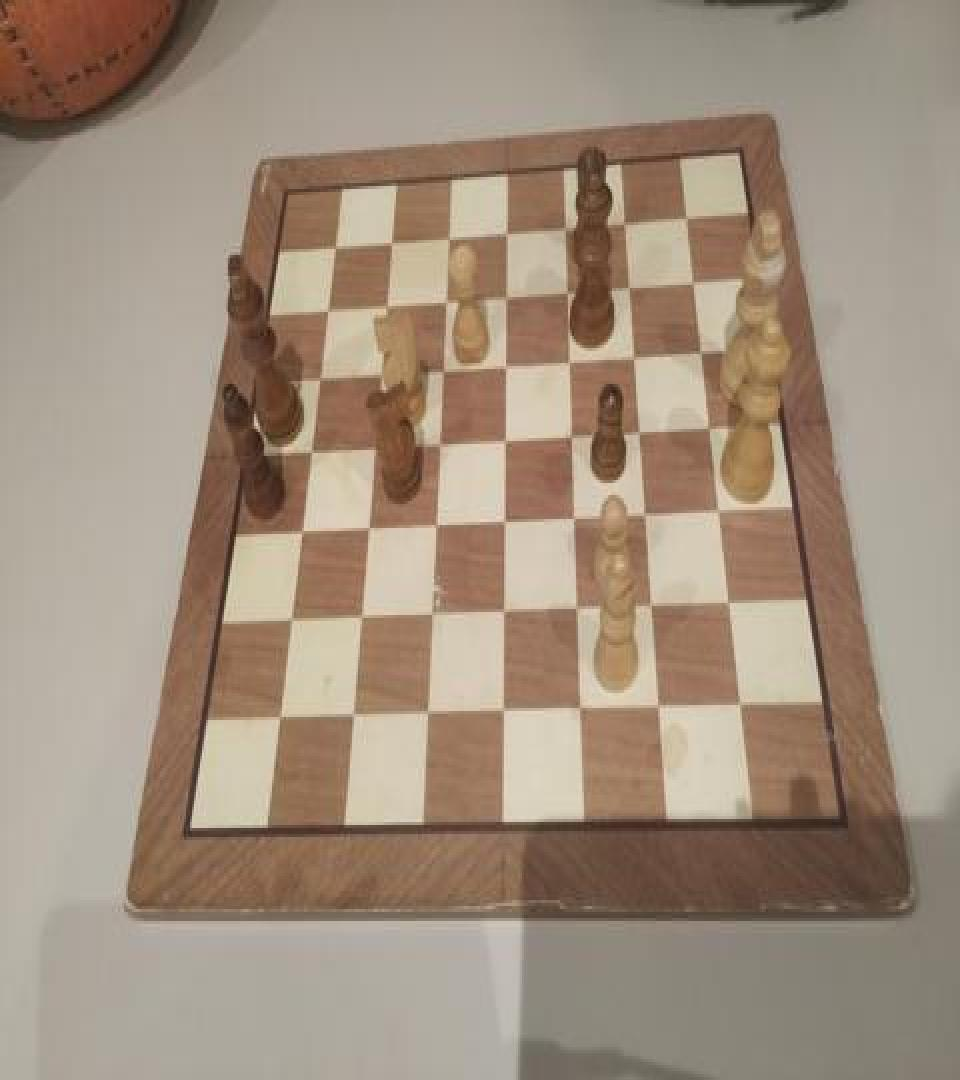xcorner: (317, 295, 337, 326), (437, 223, 457, 254), (268, 705, 288, 735), (417, 702, 437, 732), (493, 700, 513, 730), (651, 696, 671, 726), (732, 694, 752, 724), (350, 604, 370, 634), (494, 598, 514, 628), (568, 597, 588, 627), (643, 594, 663, 624), (720, 591, 740, 621), (290, 519, 310, 549), (357, 514, 377, 544), (425, 512, 445, 542), (494, 508, 514, 538), (564, 506, 584, 536), (636, 501, 656, 531), (709, 498, 729, 528), (300, 438, 320, 468), (364, 434, 384, 464), (428, 430, 448, 460), (494, 426, 514, 456), (562, 422, 582, 452), (630, 417, 650, 447), (699, 414, 719, 444), (309, 364, 329, 394), (370, 360, 390, 390), (432, 356, 452, 386), (495, 351, 515, 381), (559, 346, 579, 376), (624, 342, 644, 372), (691, 338, 711, 368), (375, 291, 395, 321), (435, 286, 455, 316), (495, 282, 515, 312), (557, 278, 577, 308), (619, 272, 639, 302), (682, 267, 702, 297), (324, 234, 344, 264), (380, 228, 400, 258), (495, 219, 515, 249), (554, 213, 574, 243), (614, 208, 634, 238), (675, 202, 695, 232), (342, 704, 362, 733), (571, 698, 591, 727), (280, 608, 300, 637), (421, 602, 441, 631)
